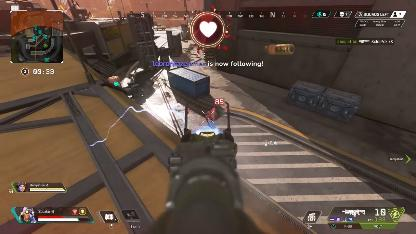Target: (204, 109, 212, 121)
